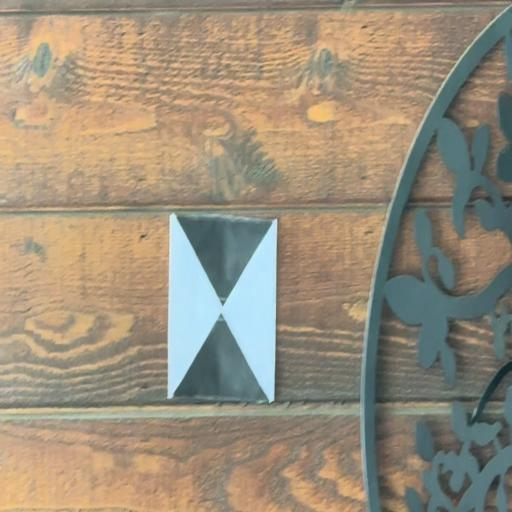target: (169, 215, 277, 401)
